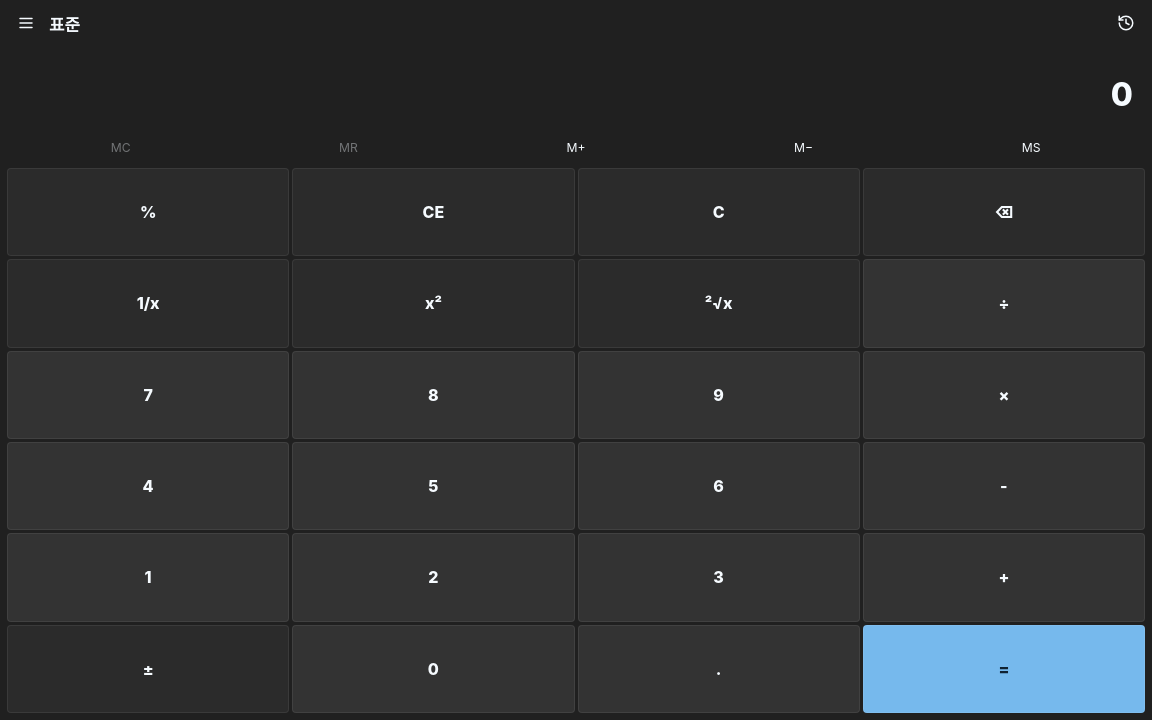
Scenario: 계산기 상태 › 잘못된 입력과 0으로 나누기를 구분한다
Click the button "9" at point(719, 395), box [578, 351, 860, 439]
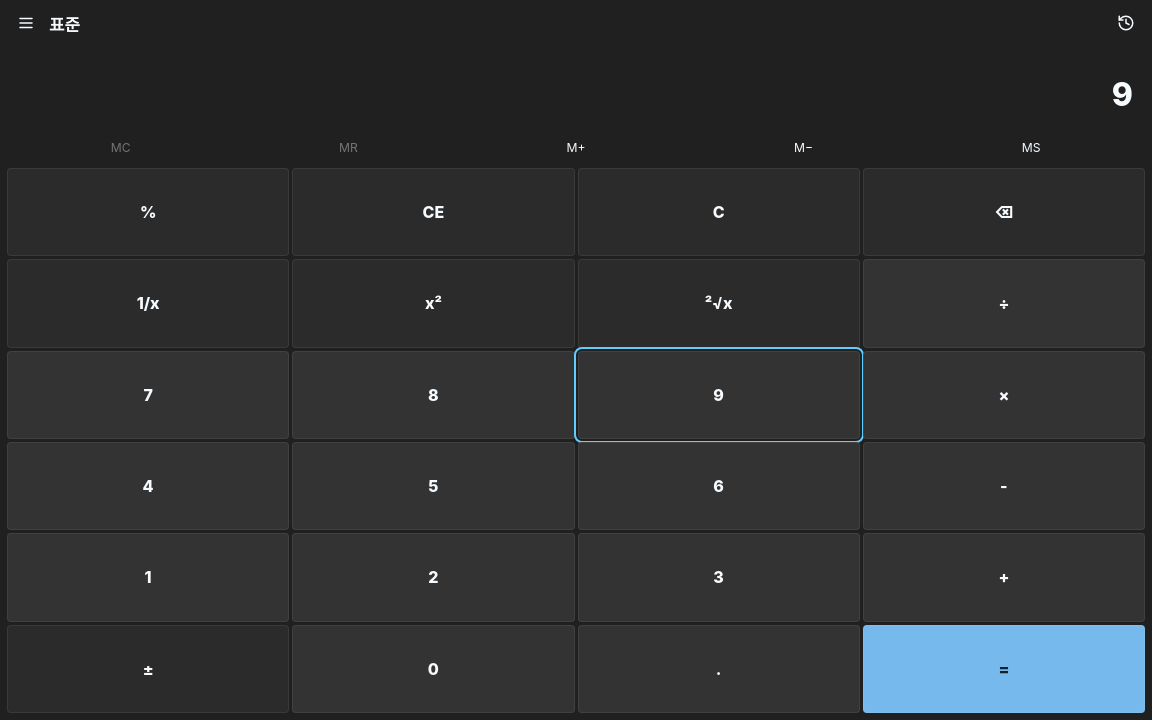
Click the button "±" at point(148, 669), box [7, 625, 289, 713]
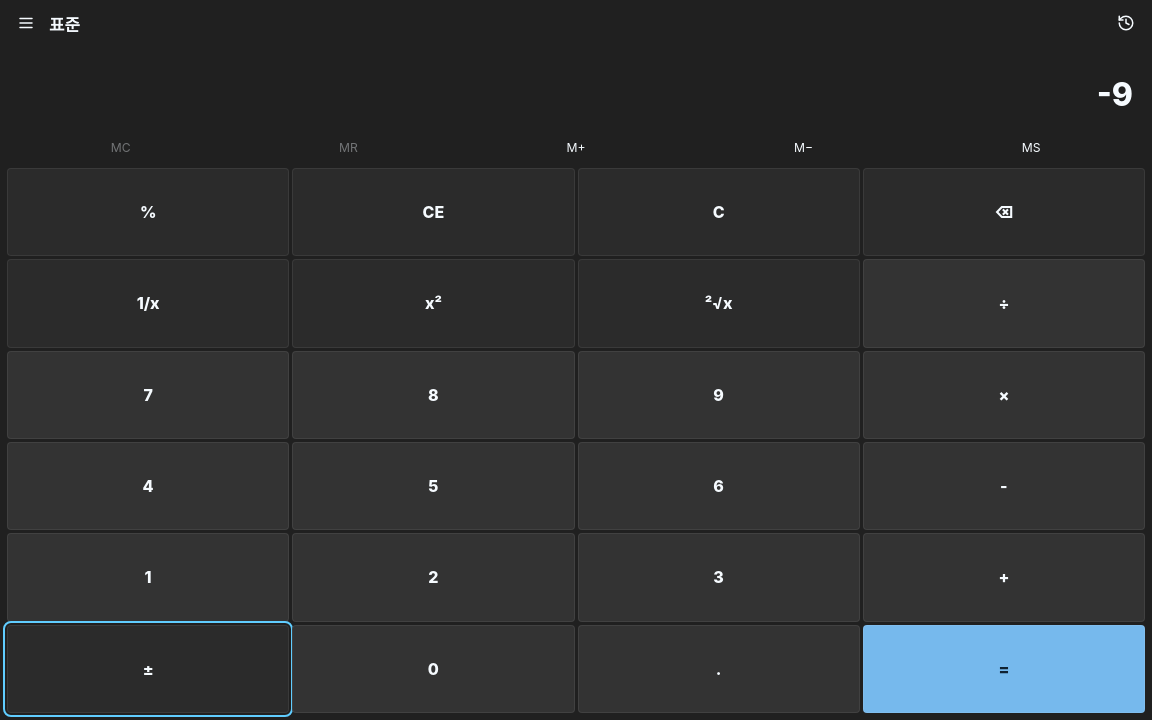
Click the button "²√x" at point(719, 303), box [578, 259, 860, 348]
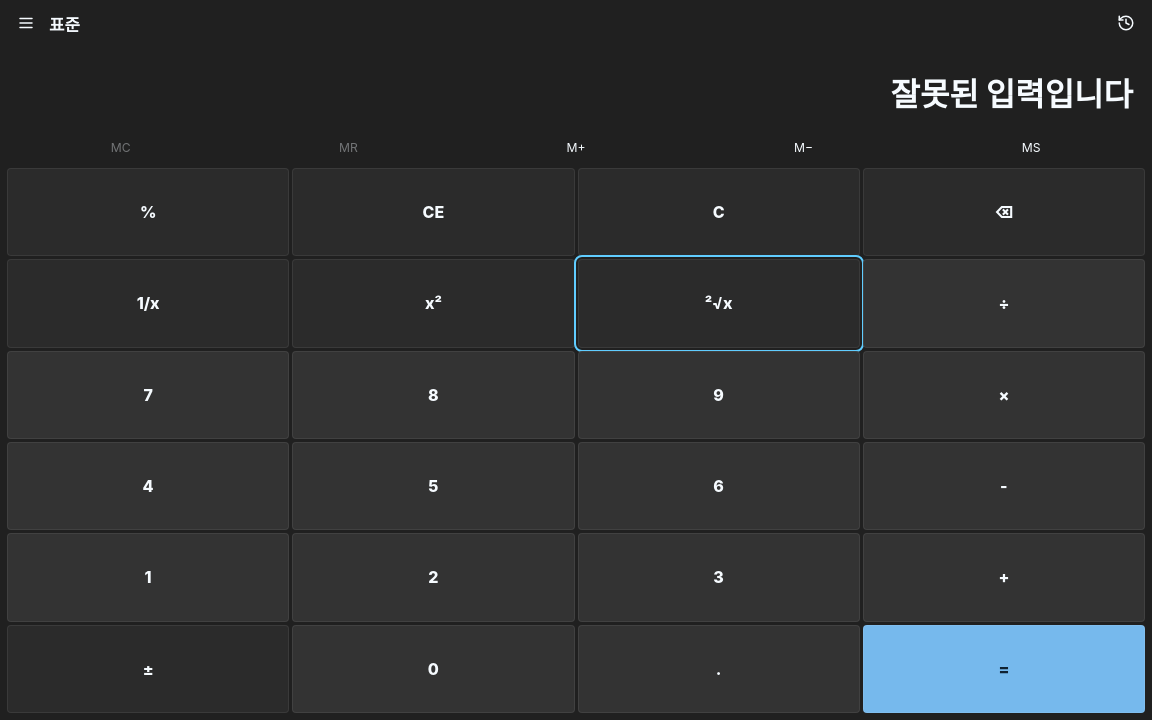
expect the text named "계산기 표시창" reads "잘못된 입력입니다": met, box [890, 75, 1133, 114]
